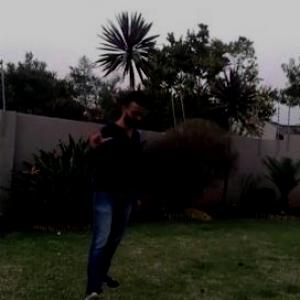land_hand: (84, 119, 116, 148)
